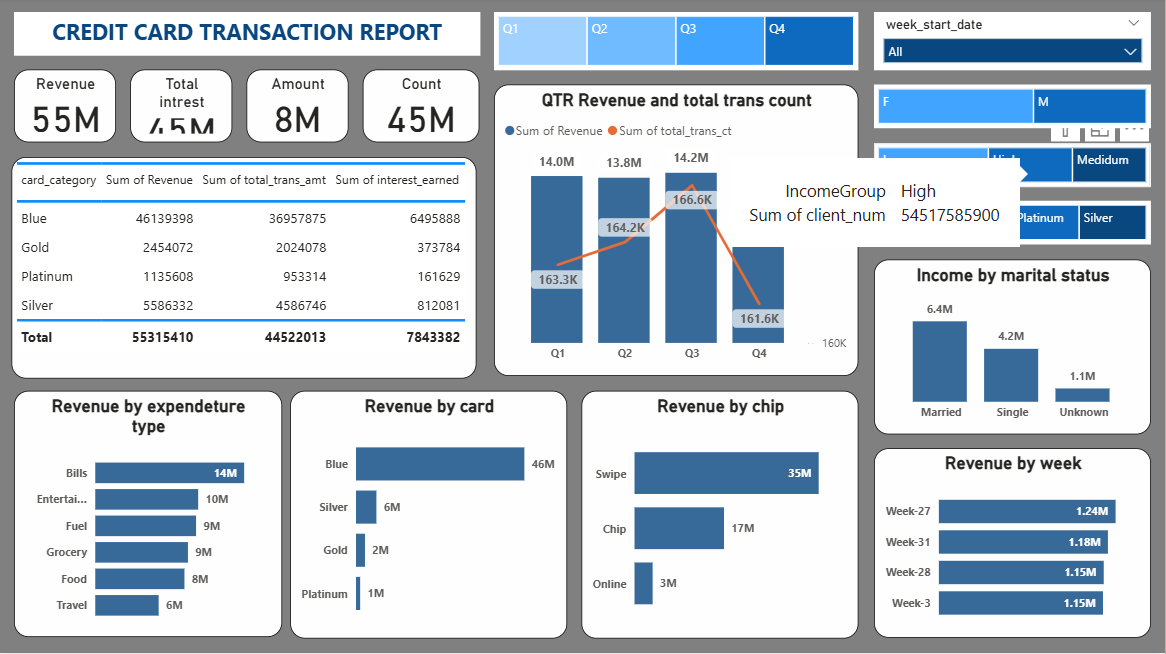

This screenshot's page, from the dashboard's own definition file:
{"tool":"powerbi","page":{"name":"cc transaction","canvas":[1280,720],"ordinal":1},"visuals":[{"type":"textbox","box":[16,16,512,48],"z":0},{"type":"lineStackedColumnComboChart","title":"QTR Revenue and total trans count","fields":{"Category":["public cc_detail.qtr"],"Y":["Sum(public cc_detail.Revenue)"],"Y2":["Sum(public cc_detail.total_trans_ct)"]},"box":[544,96,400,320],"z":1000},{"type":"barChart","title":"Revenue by expendeture type","fields":{"Y":["Sum(public cc_detail.Revenue)"],"Category":["public cc_detail.exp_type"]},"box":[16,432,294,270],"z":2000},{"type":"barChart","title":"Revenue by card","fields":{"Y":["Sum(public cc_detail.Revenue)"],"Category":["public cc_detail.card_category"]},"box":[320,432,304,272],"z":3000},{"type":"barChart","title":"Revenue by chip","fields":{"Y":["Sum(public cc_detail.Revenue)"],"Category":["public cc_detail.use_chip"]},"box":[640,432,304,272],"z":4000},{"type":"tableEx","fields":{"Values":["public cc_detail.card_category","Sum(public cc_detail.Revenue)","Sum(public cc_detail.total_trans_amt)","Sum(public cc_detail.interest_earned)"]},"box":[14,176,510,243],"z":5000},{"type":"card","title":"Revenue","fields":{"Values":["Sum(public cc_detail.Revenue)"]},"box":[16,80,112,80],"z":6000},{"type":"card","title":"Count","fields":{"Values":["Sum(public cc_detail.total_trans_amt)"]},"box":[400,80,128,80],"z":7000},{"type":"card","title":"Amount","fields":{"Values":["Sum(public cc_detail.interest_earned)"]},"box":[272,80,112,80],"z":8000},{"type":"card","title":"Total intrest","fields":{"Values":["Sum(public cc_detail.total_trans_amt)"]},"box":[144,80,112,80],"z":9000},{"type":"barChart","title":"Revenue by week","fields":{"Y":["Sum(public cc_detail.Revenue)"],"Category":["public cc_detail.week_num"]},"box":[960,496,304,208],"z":10000},{"type":"columnChart","title":"Income by marital status","fields":{"Category":["public cust_detail.marital_status"],"Y":["Sum(public cust_detail.income)"]},"box":[960,288,304,192],"z":11000},{"type":"slicer","fields":{"Values":["public cc_detail.week_start_date"]},"box":[960,16,304,64],"z":12000},{"type":"treemap","fields":{"Group":["public cc_detail.qtr"],"Values":["Sum(public cust_detail.client_num)"]},"box":[544,16,400,64],"z":13000},{"type":"treemap","fields":{"Values":["Sum(public cust_detail.client_num)"],"Group":["public cust_detail.IncomeGroup"]},"box":[960,160,304,48],"z":14000},{"type":"treemap","fields":{"Values":["Sum(public cust_detail.client_num)"],"Group":["public cc_detail.card_category"]},"box":[960,224,304,48],"z":15000},{"type":"treemap","fields":{"Values":["Sum(public cust_detail.client_num)"],"Group":["public cust_detail.gender"]},"box":[960,96,304,48],"z":16000}]}

Visuals, with their boxes in screenshot pixels (x1, y1, x2, y2), scaled from the page's 1280x720 canvas onto the 1166x654 screenshot:
textbox: 15,15,481,58
"QTR Revenue and total trans count" lineStackedColumnComboChart: 496,87,860,378
"Revenue by expendeture type" barChart: 15,392,282,638
"Revenue by card" barChart: 292,392,568,639
"Revenue by chip" barChart: 583,392,860,639
tableEx - public cc_detail.card_category x Sum(public cc_detail.Revenue): 13,160,477,381
"Revenue" card: 15,73,117,145
"Count" card: 364,73,481,145
"Amount" card: 248,73,350,145
"Total intrest" card: 131,73,233,145
"Revenue by week" barChart: 874,451,1151,639
"Income by marital status" columnChart: 874,262,1151,436
slicer - public cc_detail.week_start_date: 874,15,1151,73
treemap - public cc_detail.qtr x Sum(public cust_detail.client_num): 496,15,860,73
treemap - Sum(public cust_detail.client_num) x public cust_detail.IncomeGroup: 874,145,1151,189
treemap - Sum(public cust_detail.client_num) x public cc_detail.card_category: 874,203,1151,247
treemap - Sum(public cust_detail.client_num) x public cust_detail.gender: 874,87,1151,131
